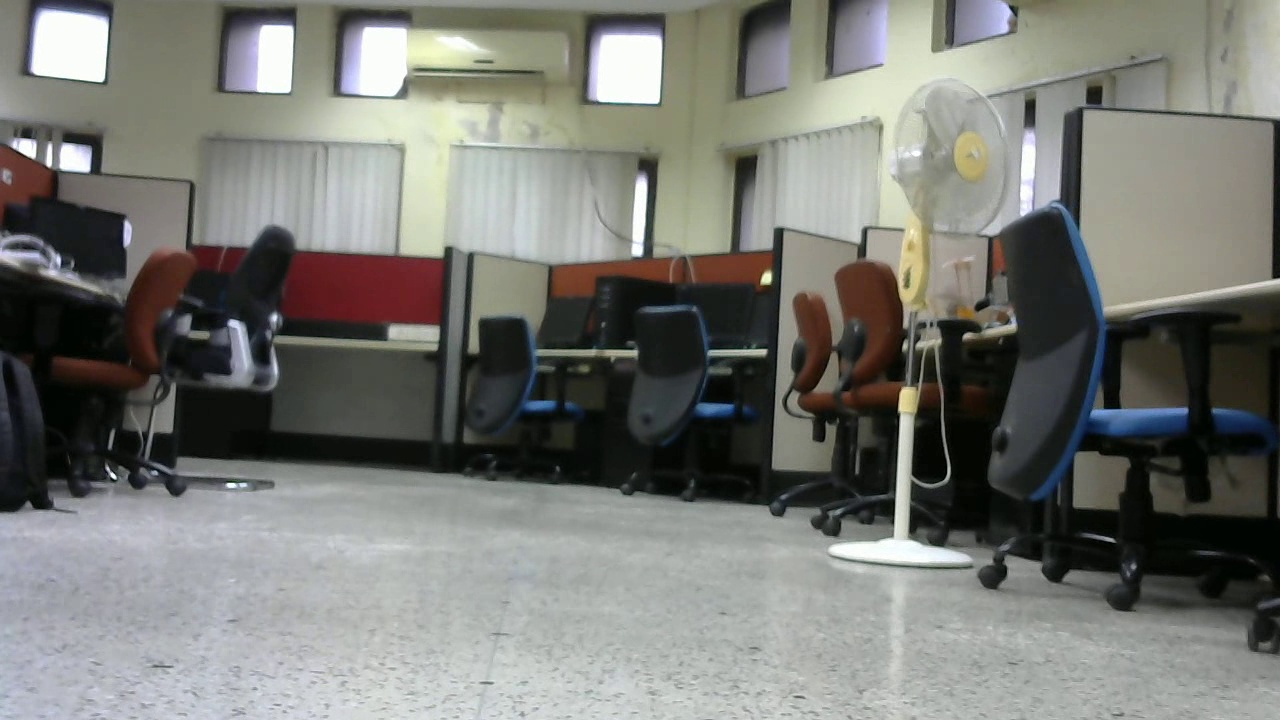chair: (984, 206, 1268, 599), (825, 258, 976, 538), (29, 250, 201, 469), (177, 231, 301, 497), (612, 300, 761, 511), (453, 316, 601, 482), (772, 284, 864, 495)
